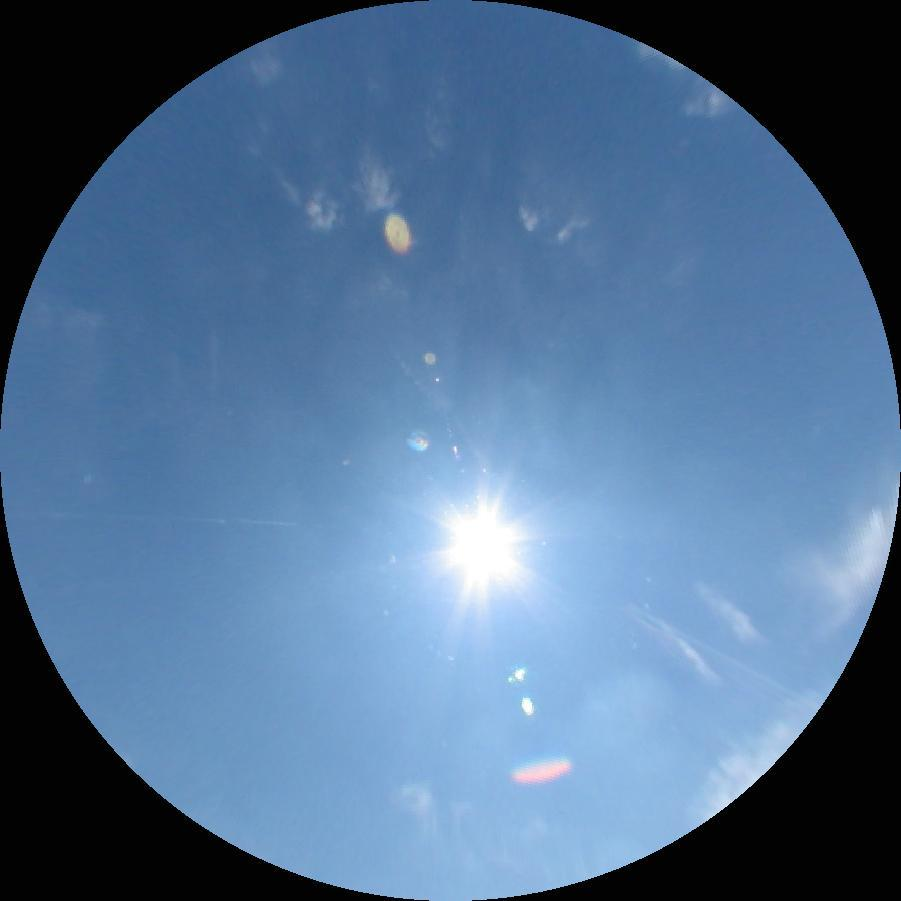contrail old: (649, 610, 724, 689)
parasite: (626, 601, 798, 698), (5, 509, 301, 527), (621, 607, 671, 641)
sun: (435, 497, 529, 593)
